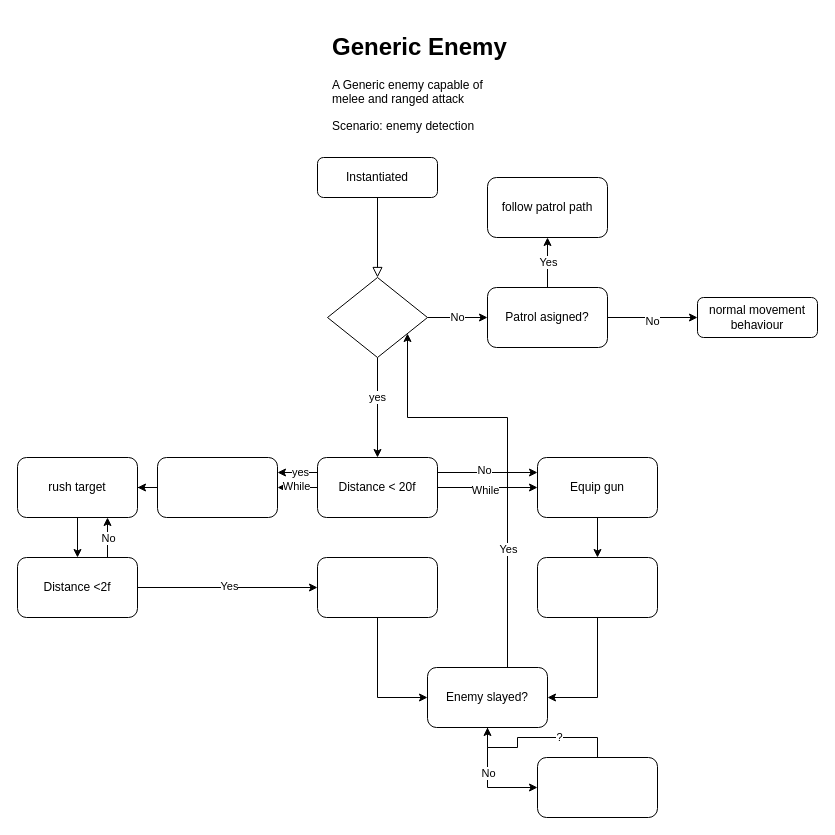
Image size: 835x835. Some labels were removed from this diagram. The box of each missing label's shape, as (x1, y1, x2, y2) in pixels:
Enemy detected?: (326, 276, 428, 358)
equip knife: (156, 456, 278, 518)
keep attacking: (536, 756, 658, 818)
Start melee attack behaviour: (316, 556, 438, 618)
Start range attack behaviour: (536, 556, 658, 618)
